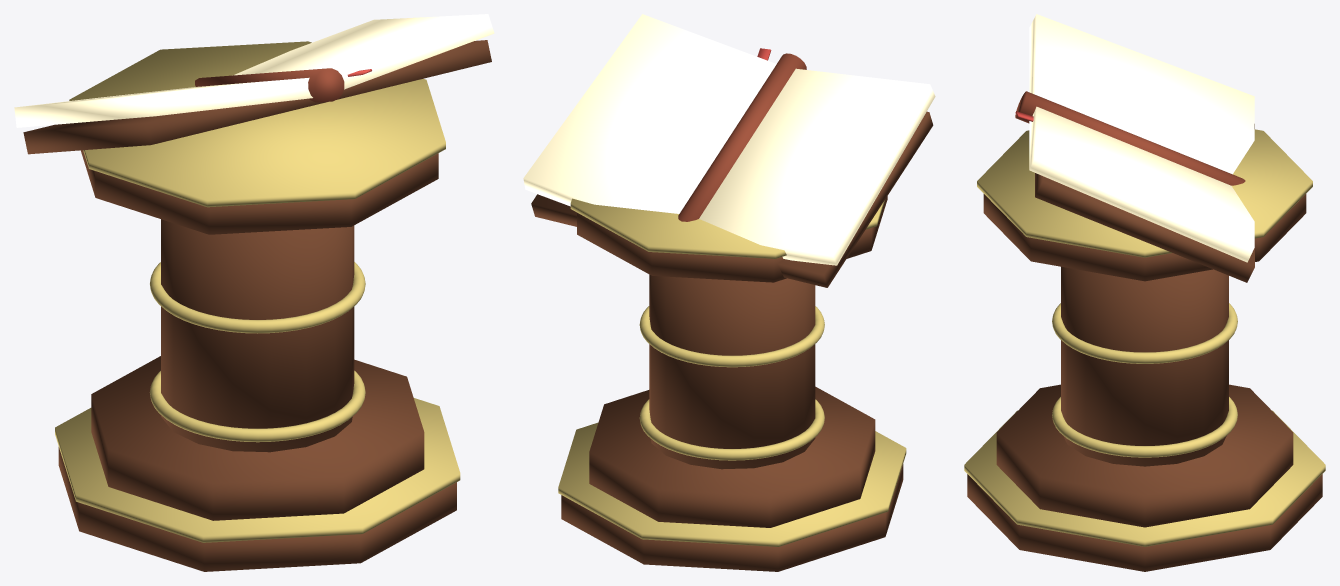
Rendered from sach_truyen_kieu.glb.
The picture shows the model from 3 angles, left to right: view 1: azimuth 30°, elevation 25°; view 2: azimuth 150°, elevation 25°; view 3: azimuth 270°, elevation 25°; orthographic projection. The views are drawn at different scales.
Visible parts, largest first — view 1: Cylinder; view 2: Cylinder; view 3: Cylinder.
Boxes of the visible parts, <box> form: Cylinder: <box>14,14,494,571</box>; Cylinder: <box>523,14,935,571</box>; Cylinder: <box>964,14,1325,571</box>.
Bounding box in the file's own units: 1.1 × 1.38 × 1.1.
